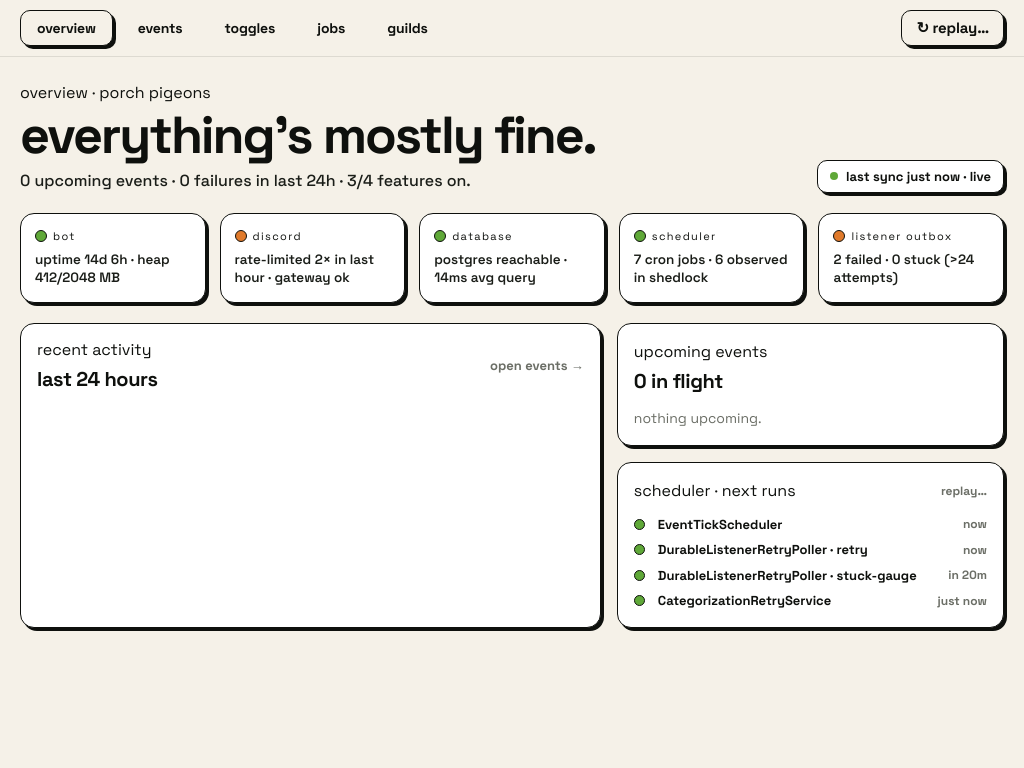
Scenario: AdminPanel › opens the replay modal from the sub-nav
The width and height of the screenshot is (1024, 768).
Expected: the heading "everything's mostly fine." is shown, top-left (20, 109), bottom-right (596, 161)
What coordinates should you click on to do the following:
click the button "↻ replay…"
I would click on:
 (953, 28)
Its box is top-left (901, 10), bottom-right (1004, 46).
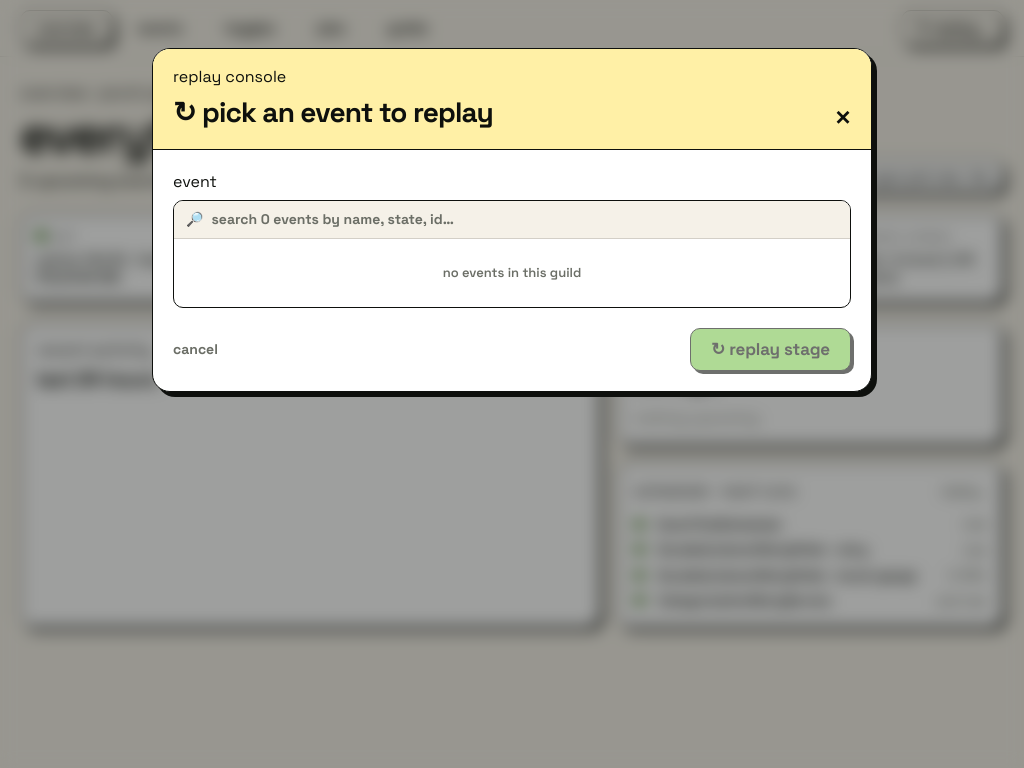
Expected: the text "↻ pick an event to replay" is shown, top-left (173, 91), bottom-right (493, 133)
Expected: the field with placeholder "search 0 events by name, state, id…" is shown, top-left (212, 209), bottom-right (838, 230)
